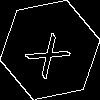X: (25, 25, 79, 80)
